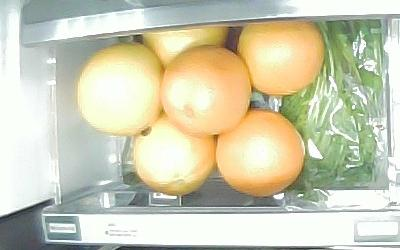grapefruit: (162, 45, 252, 138), (77, 43, 161, 138), (218, 111, 307, 197), (237, 20, 328, 99), (133, 113, 215, 198), (142, 21, 229, 68)
